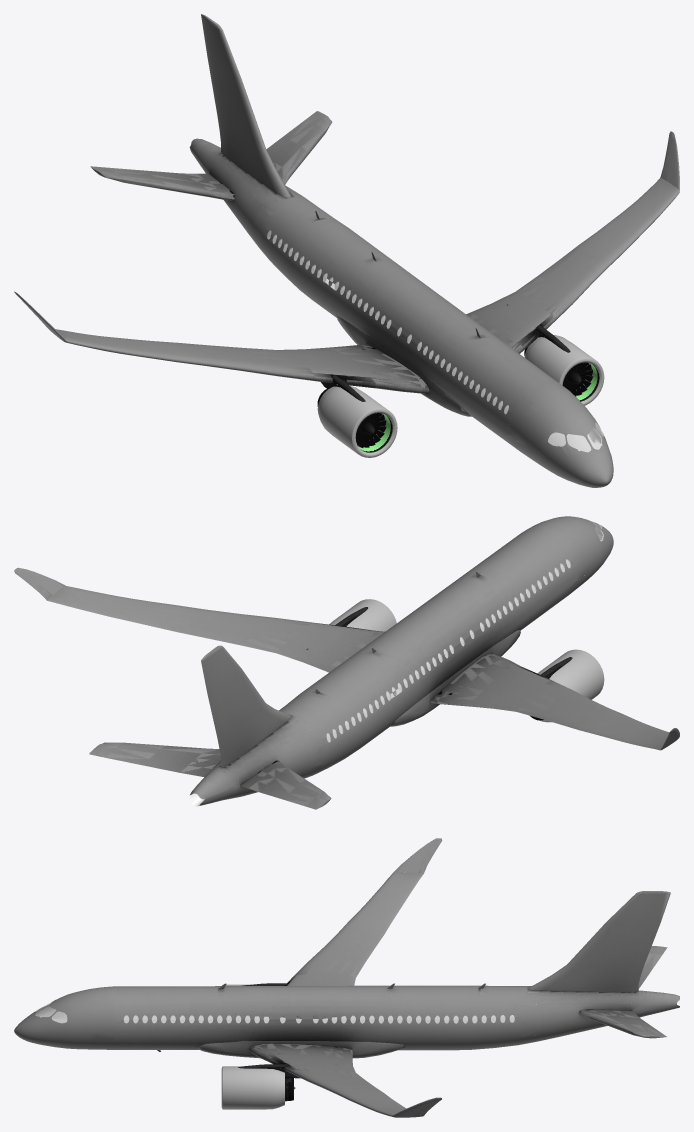
3 renders of one model, top to bottom at view 1: azimuth 30°, elevation 25°; view 2: azimuth 150°, elevation 25°; view 3: azimuth 270°, elevation 25°, orthographic. The views are drawn at different scales.
Visible parts, largest first — view 1: wings; view 2: wings; view 3: wings.
Part boxes in pixels (x1,y1,x2,y2): wings: (14,14,679,487); wings: (14,516,679,809); wings: (14,838,679,1117).
Size of the model in its own units: 35.17 by 11.09 by 38.17.
6 materials, 2 textured.
